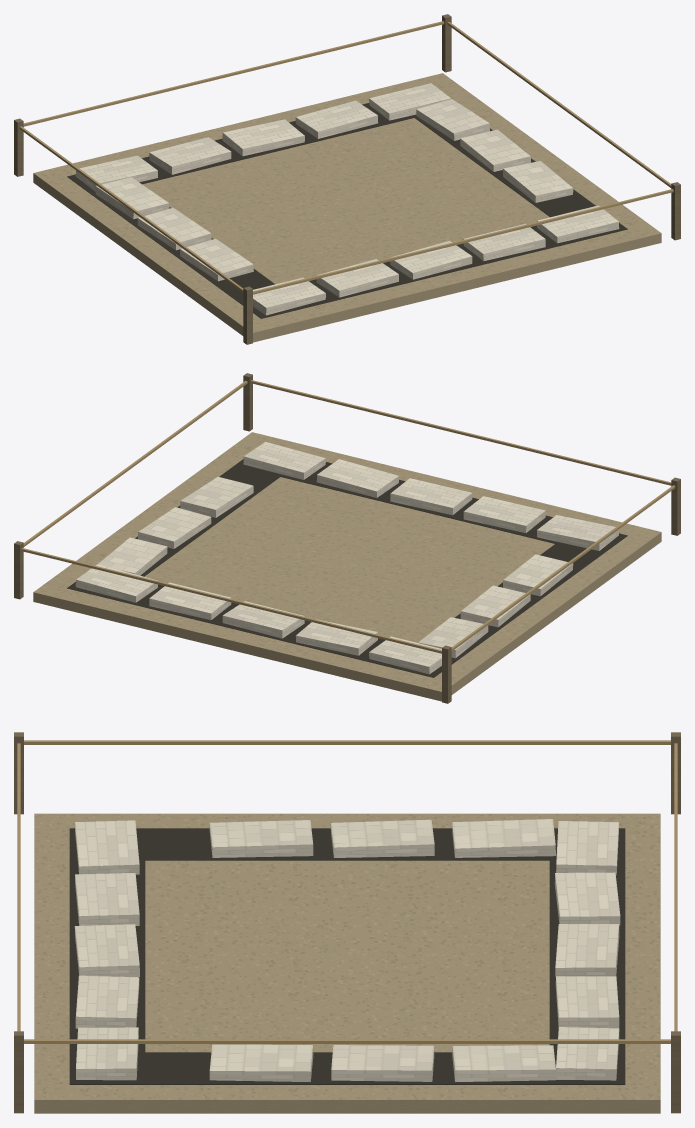
Rendered from pol-8-site.glb.
3 views of the same model, one above another, from view 1: azimuth 30°, elevation 25°; view 2: azimuth 150°, elevation 25°; view 3: azimuth 270°, elevation 25° (orthographic). The views are drawn at different scales.
Size of the model in its own units: 14.2 by 2.02 by 13.2.
Materials: 5 (3 with a texture image).
